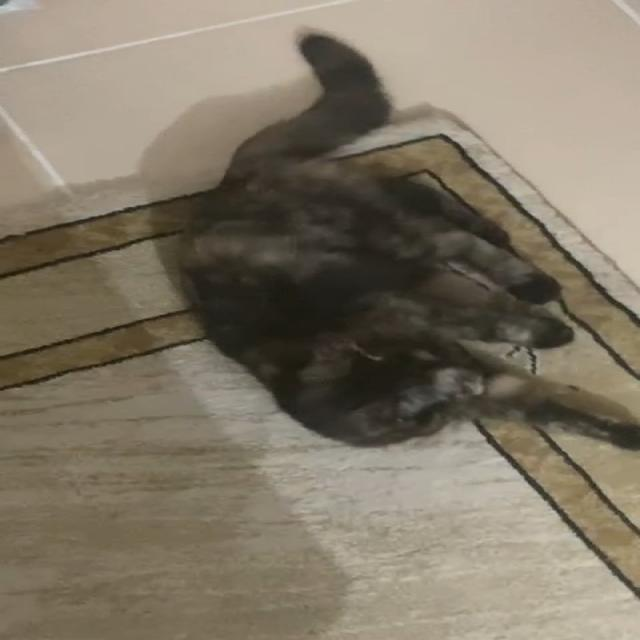authorized: (174, 24, 638, 451)
